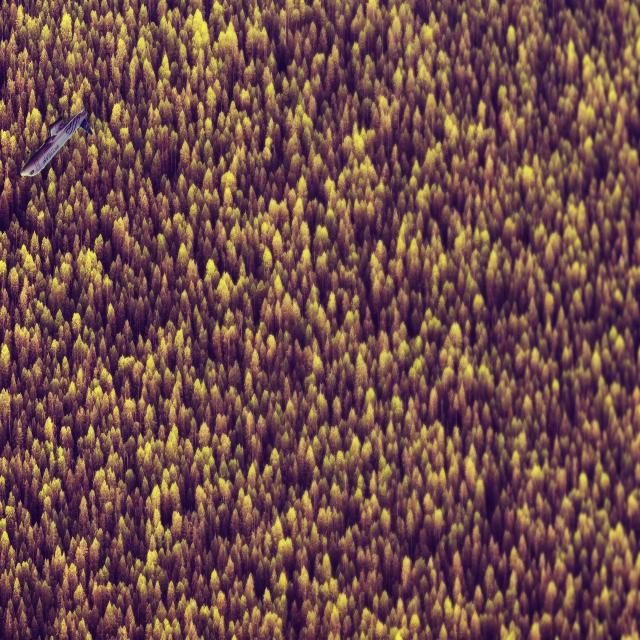airplane: (19, 108, 92, 178)
